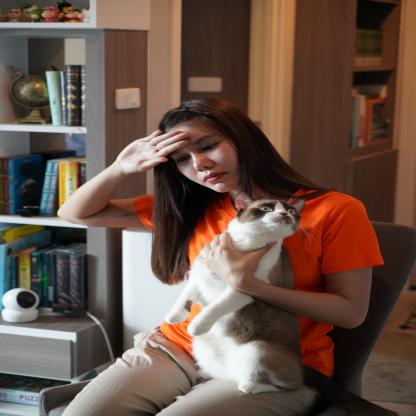Sick: (99, 127, 196, 178)
